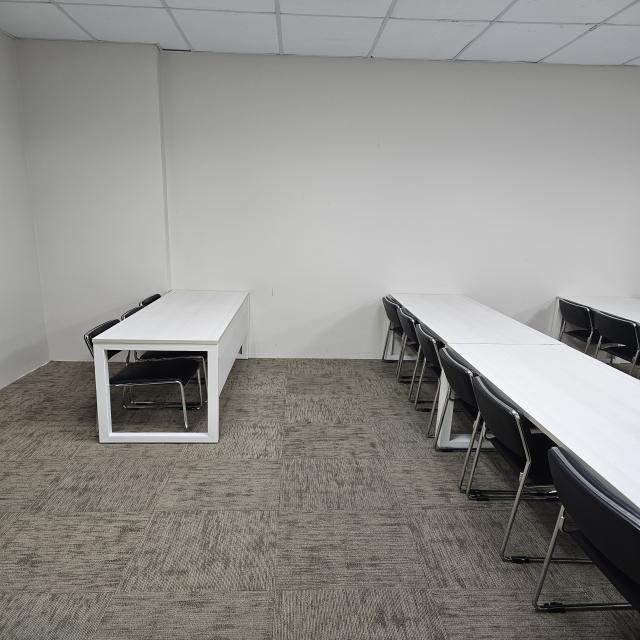footpath: (4, 448, 426, 633)
obstacle: (466, 360, 640, 626), (88, 288, 252, 445)
